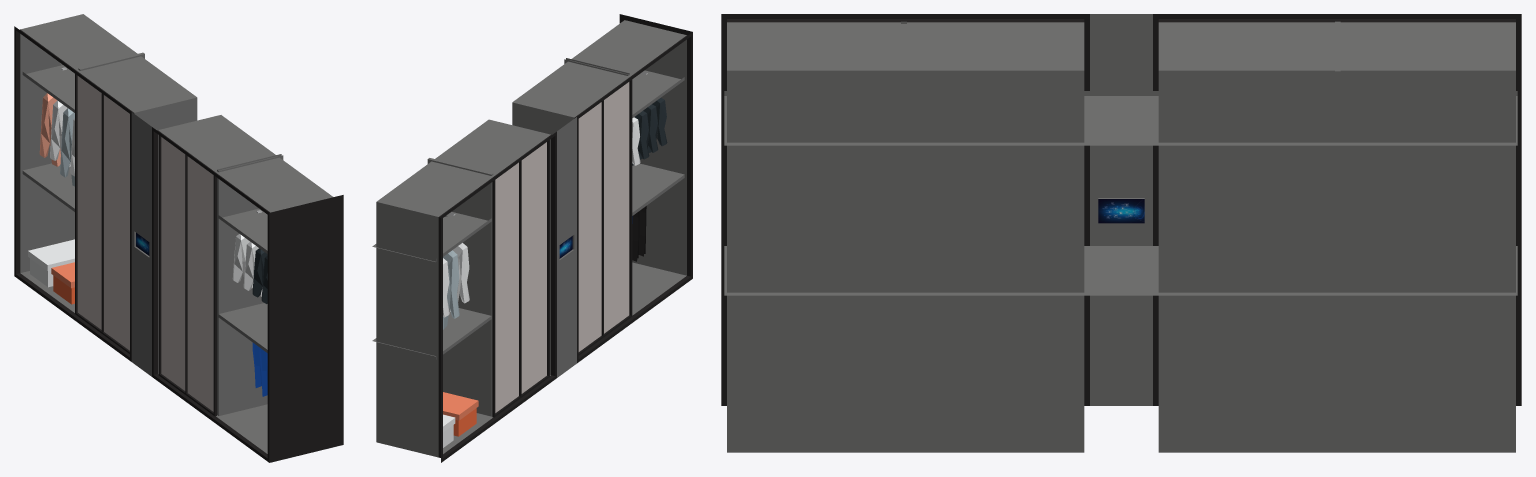
Rendered from M_BRyigui04.FBX.
3 renders of one model, left to right at view 1: azimuth 30°, elevation 25°; view 2: azimuth 150°, elevation 25°; view 3: azimuth 270°, elevation 25°, orthographic. The views are drawn at different scales.
Visible parts, largest first — view 1: M_BRyigui04_01, M_BRyigui04_04, M_BRyigui04_03, M_BRyigui04_02; view 2: M_BRyigui04_01, M_BRyigui04_04, M_BRyigui04_03, M_BRyigui04_02; view 3: M_BRyigui04_01, M_BRyigui04_05.
Boxes of the visible parts, <box> form: M_BRyigui04_01: <box>14,14,343,462</box>; M_BRyigui04_04: <box>77,76,213,411</box>; M_BRyigui04_03: <box>28,63,267,396</box>; M_BRyigui04_02: <box>61,67,261,416</box>; M_BRyigui04_01: <box>372,14,692,462</box>; M_BRyigui04_04: <box>495,82,629,412</box>; M_BRyigui04_03: <box>443,98,667,447</box>; M_BRyigui04_02: <box>449,71,647,417</box>; M_BRyigui04_01: <box>721,14,1521,452</box>; M_BRyigui04_05: <box>1098,199,1144,223</box>.
Size of the model in its own units: 1.22 by 3.93 by 7.26.
